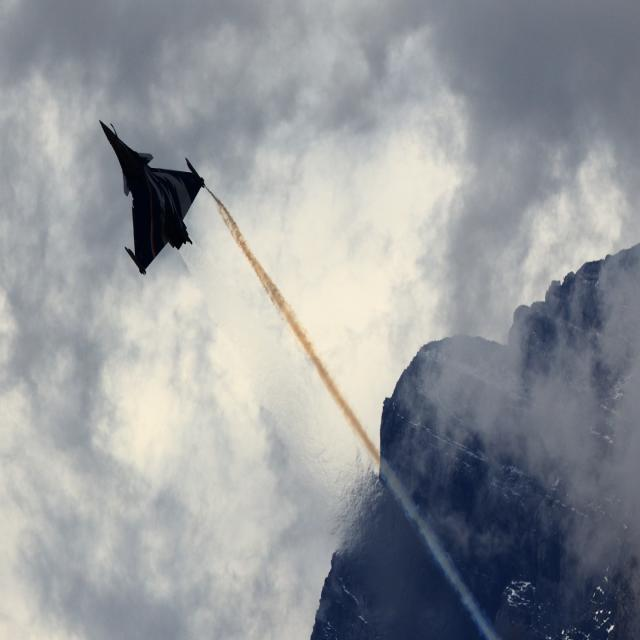MIL_Plane: (99, 119, 205, 276)
